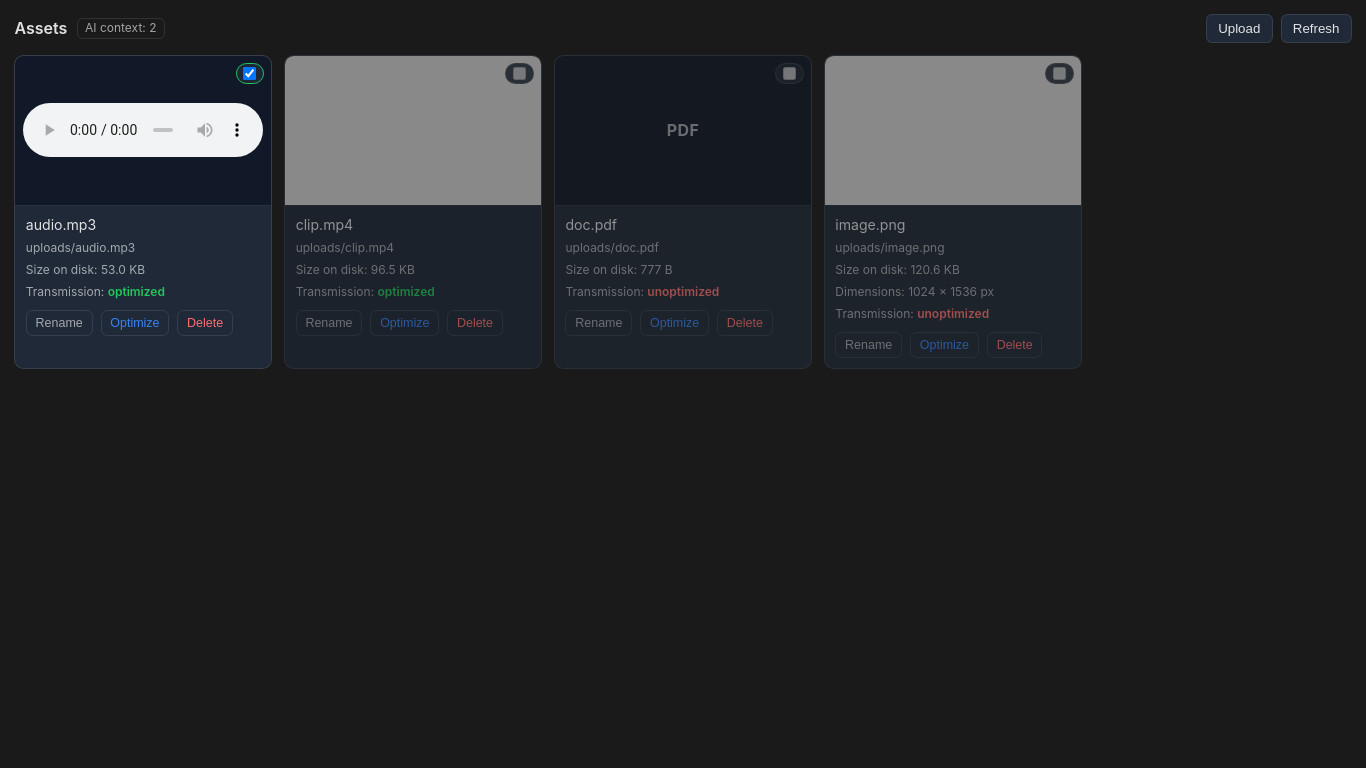
Test case: AssetsTab › renames asset and refreshes rendered asset path
The image size is (1366, 768).
Click the button with class "assets-tab__action--rename" below "Dimensions:" at point(869, 345), box [835, 332, 902, 358]
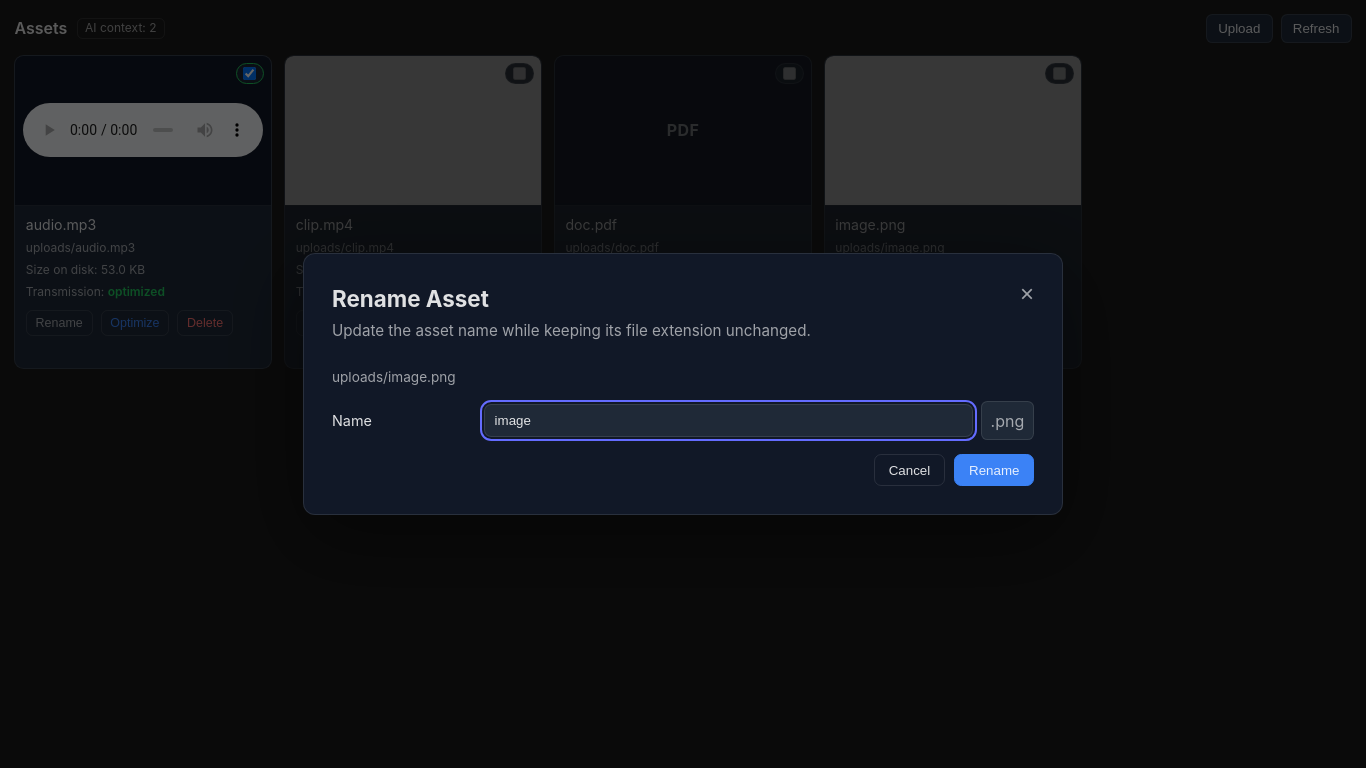
Replace the text in the field labelled "Name .png" with "hero" at point(728, 421), box [484, 404, 973, 437]
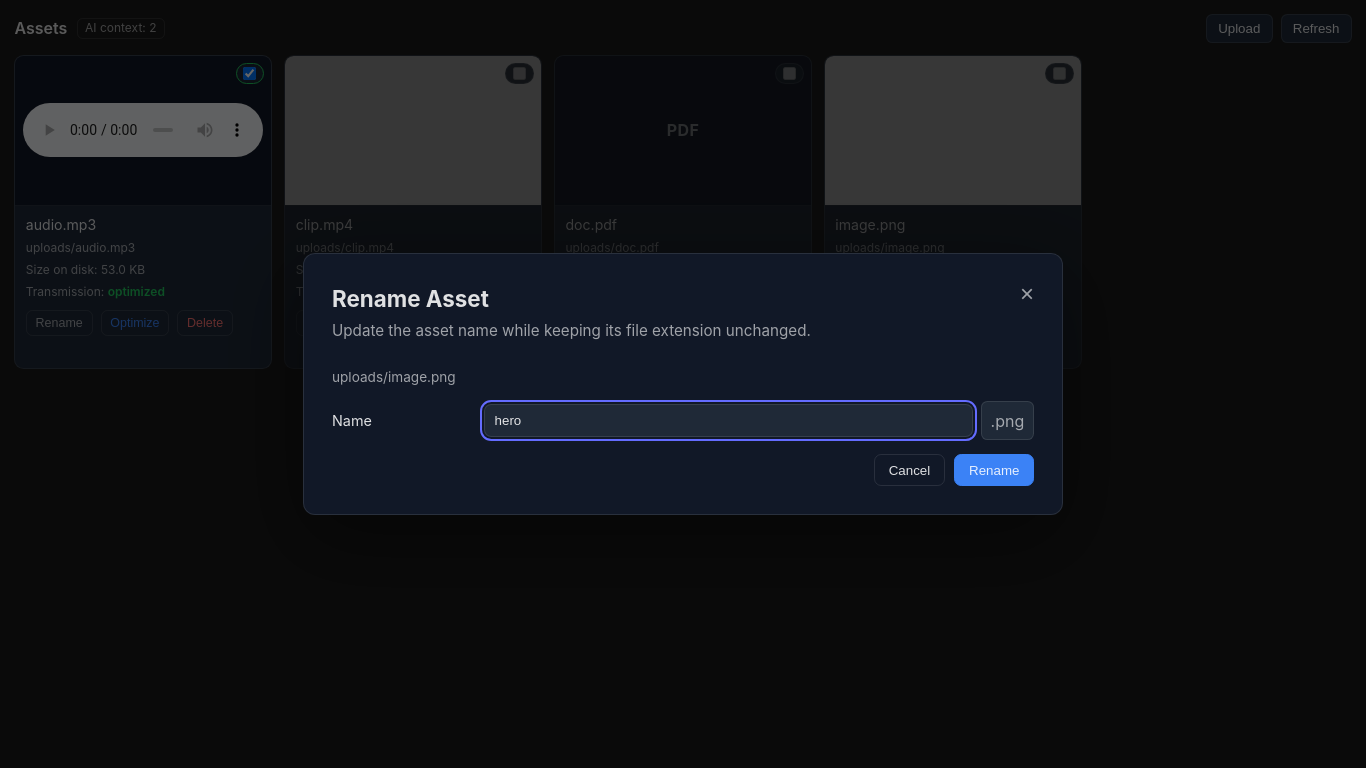
Click the button "Rename" at point(994, 470), box [954, 454, 1034, 486]
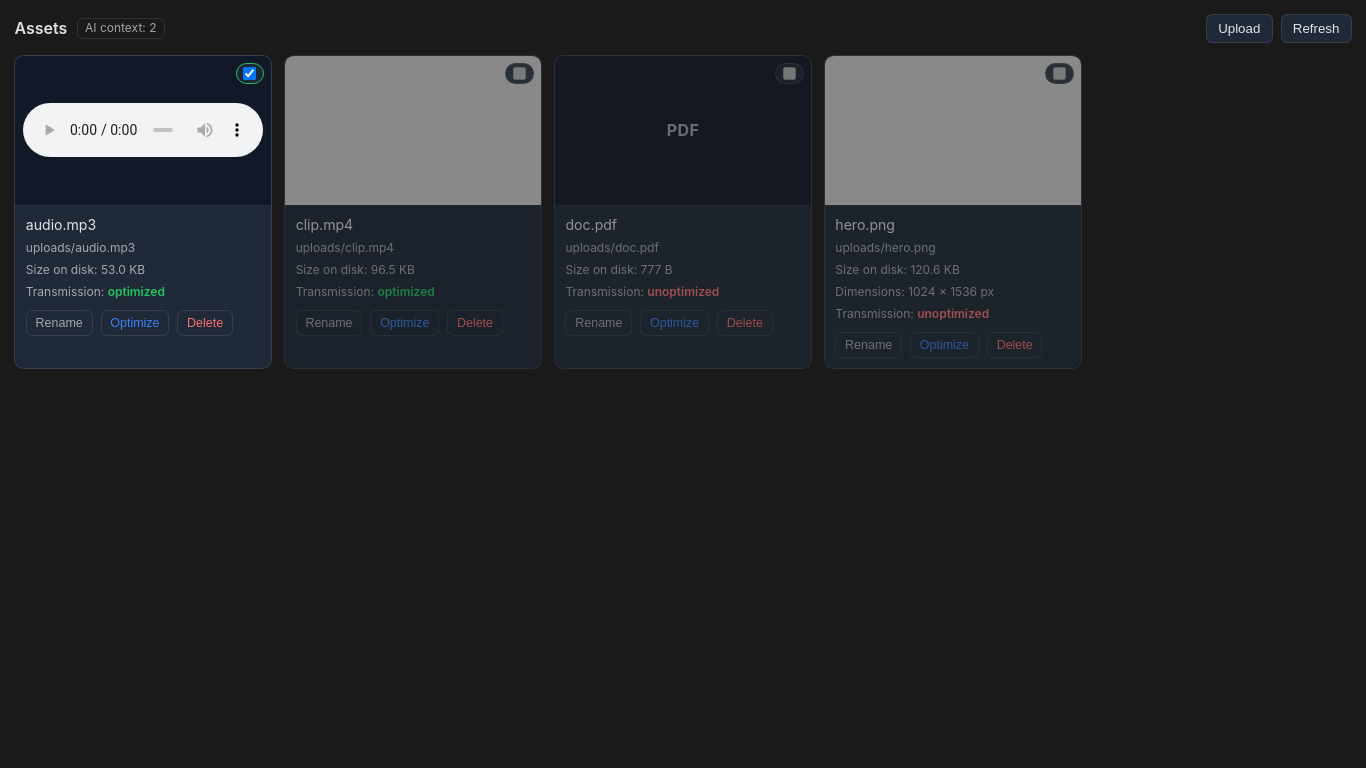
Now the text "uploads/hero.png" is shown, box [835, 240, 936, 256]
